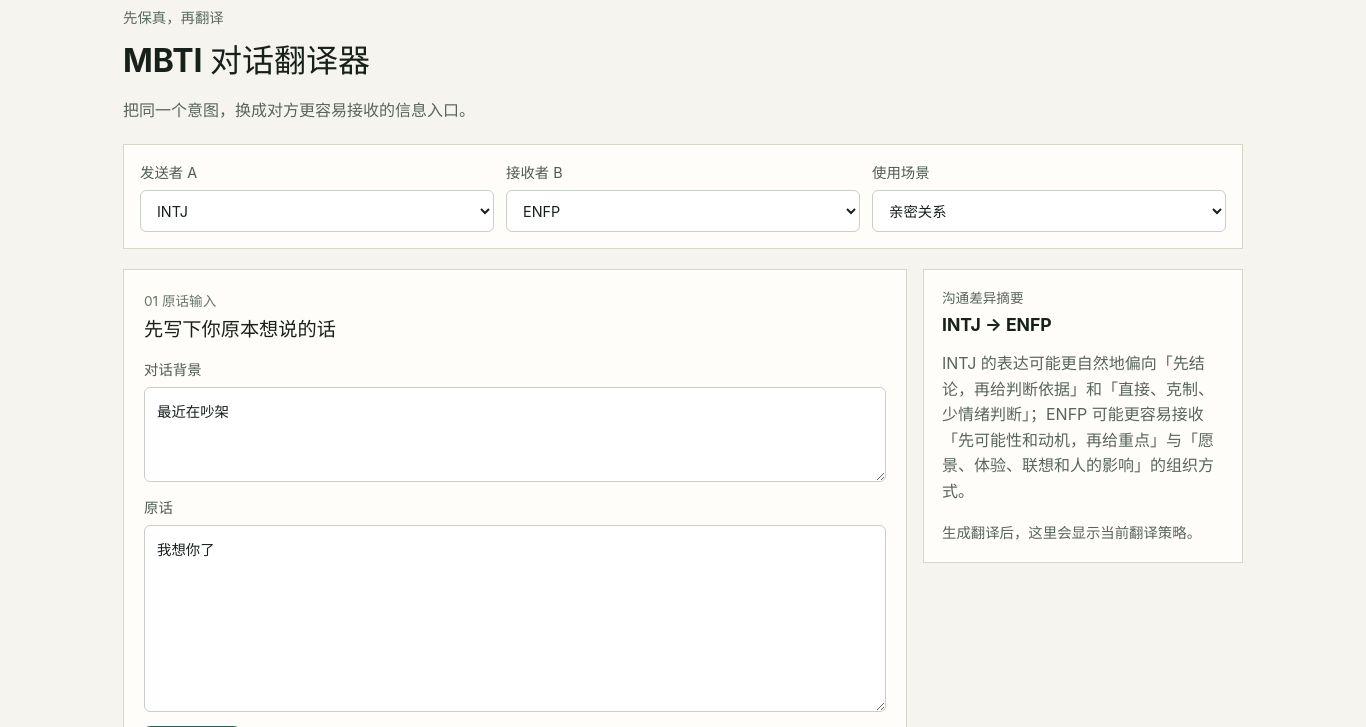
Test: shows a clear recognized state after intent analysis succeeds
Replace the text in the text box labelled "原话" with "这个方案风险太高了。" at (515, 619), box [144, 525, 886, 712]
(page scrolled)
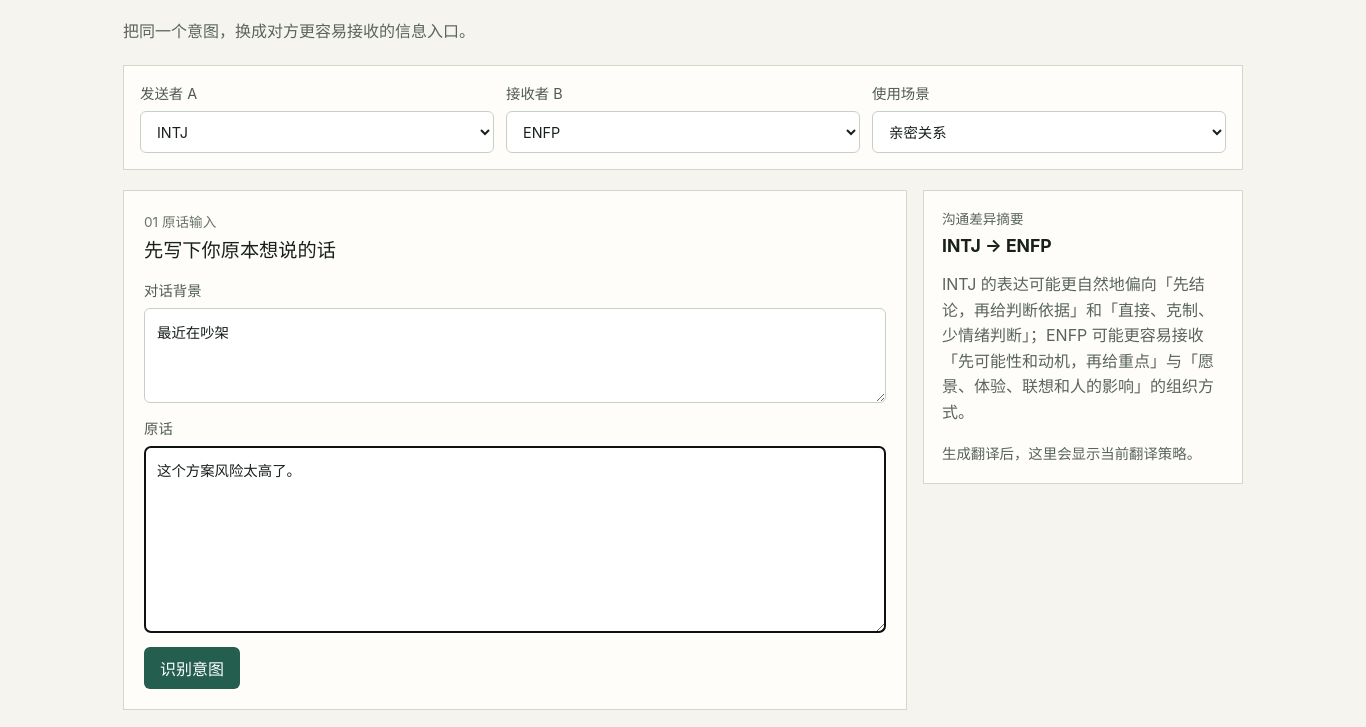
Click the button "识别意图" at (192, 668), box [144, 647, 240, 689]
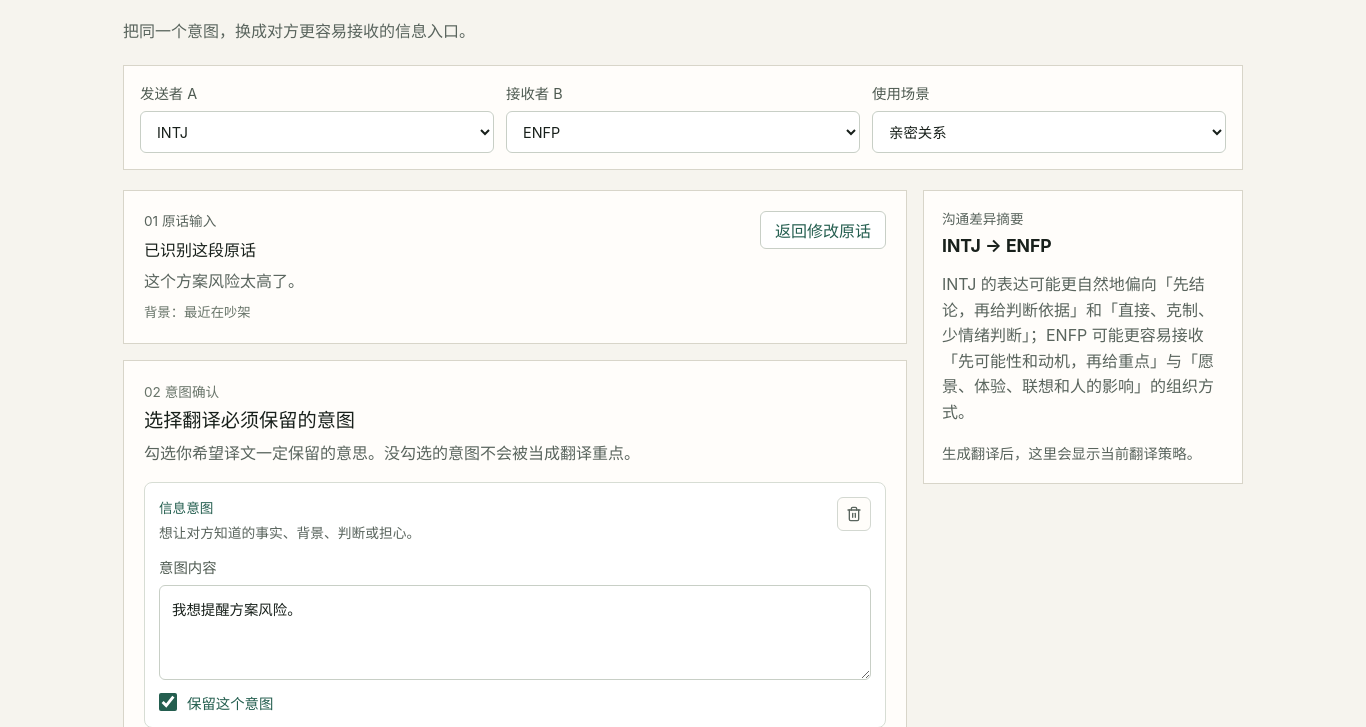
Now the heading "已识别这段原话" is shown, box [144, 240, 256, 260]
Now the button "返回修改原话" is enabled, box [760, 211, 886, 249]
